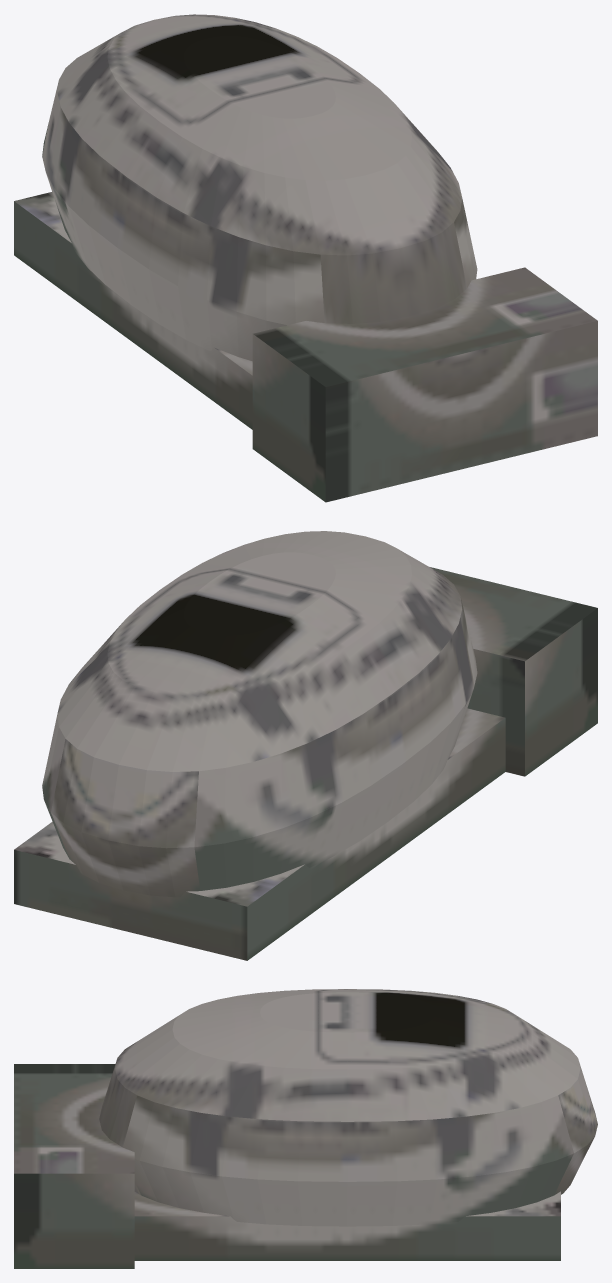
The model's file is Building_AncientCryptosleepPod.glb.
3 renders of one model, top to bottom at view 1: azimuth 30°, elevation 25°; view 2: azimuth 150°, elevation 25°; view 3: azimuth 270°, elevation 25°, orthographic. The views are drawn at different scales.
Visible parts, largest first — view 1: AncientCryptosleepPod; view 2: AncientCryptosleepPod; view 3: AncientCryptosleepPod.
Part boxes in pixels (x1=…): AncientCryptosleepPod: x1=14, y1=14, x2=597, y2=502; AncientCryptosleepPod: x1=14, y1=531, x2=597, y2=960; AncientCryptosleepPod: x1=14, y1=989, x2=597, y2=1268.
Bounding box in the file's own units: 0.88 × 0.72 × 1.89.
1 material, 1 textured.
